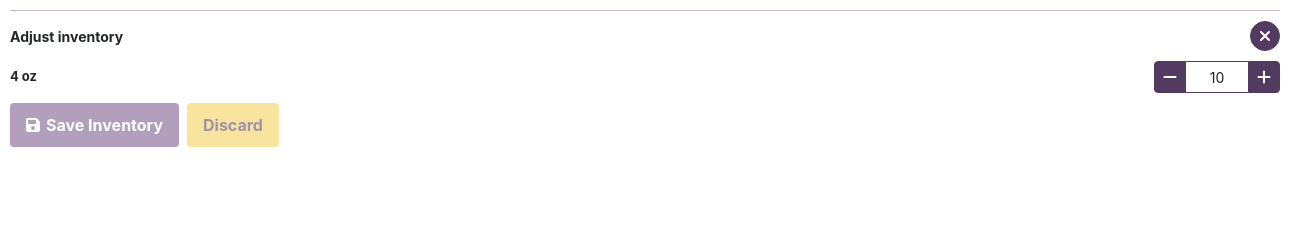
Test case: admin preview product inventory editor › keeps entered values and reports accurately when a conflict refresh fails
Replace the text in the field named "4 oz Saffron Maple Syrup stock" with "12" at (1217, 77), box x1=1186 y1=61 x2=1248 y2=93
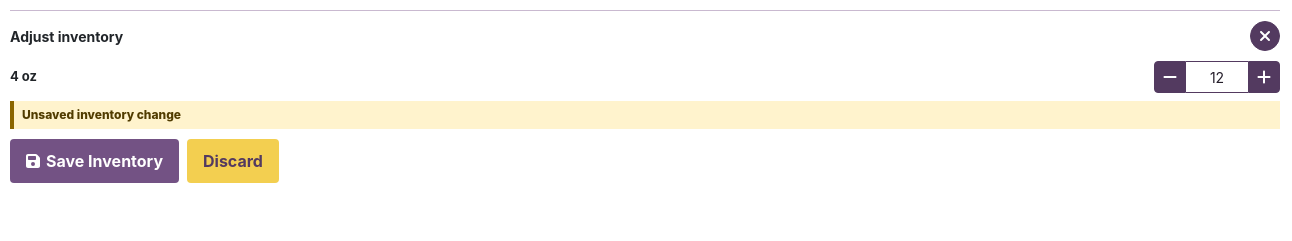
Click the button "Save Inventory" at (94, 161), box x1=10 y1=139 x2=179 y2=183
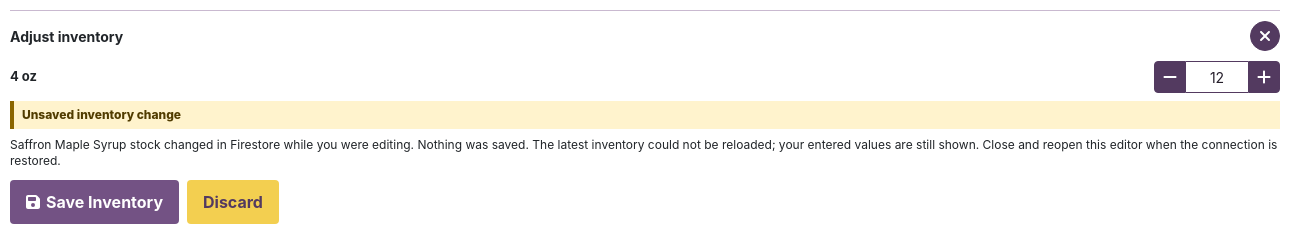
Now the text "latest inventory could not be reloaded" is shown, box x1=10 y1=137 x2=1277 y2=168
